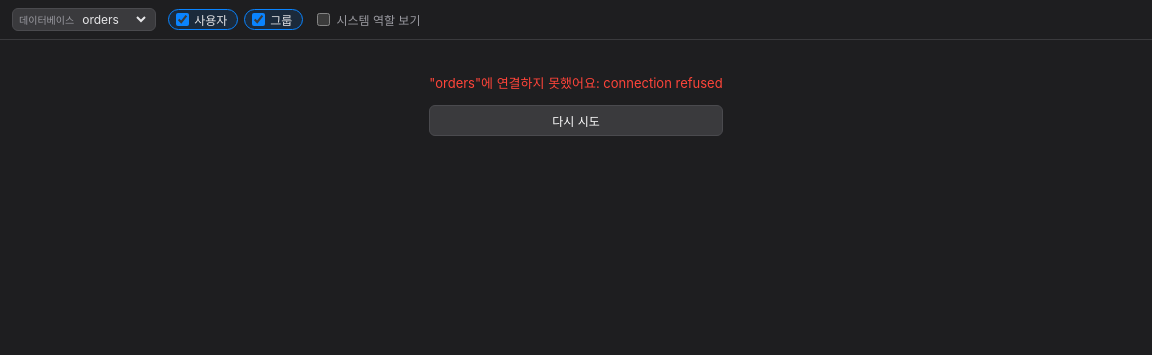
Test case: loading › shows why it failed through the error box, with the picker still there, and 다시 시도 reads it again
Expected: the text "\"orders\"에 연결하지 못했어요: connection refused" is shown, [429, 73, 723, 92]
Expected: the dropdown labelled "데이터베이스" is shown, [78, 11, 149, 28]
Step 1. Click the button "다시 시도" → click(576, 120), box [429, 105, 723, 136]
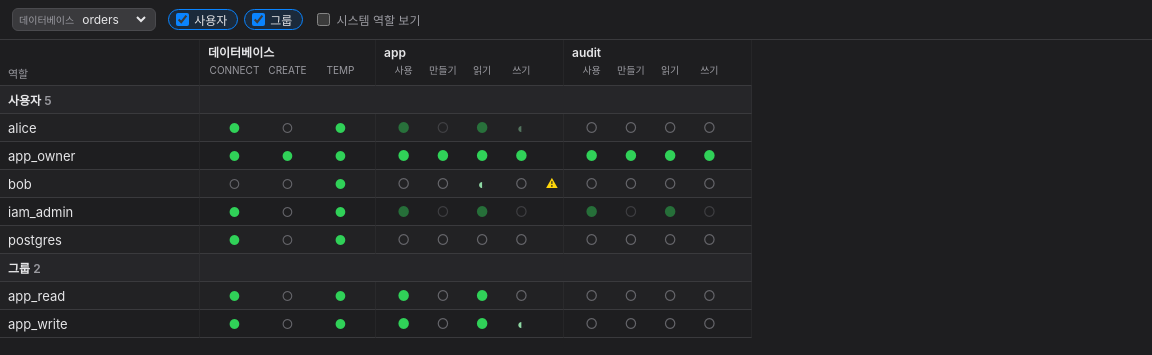
Now the table named "권한 표" is shown, box [0, 40, 752, 338]
